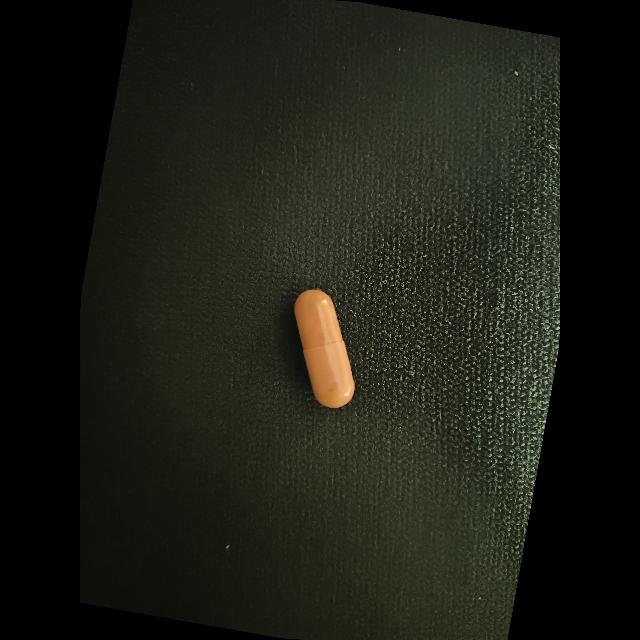Intact Capsule: (294, 289, 355, 408)
